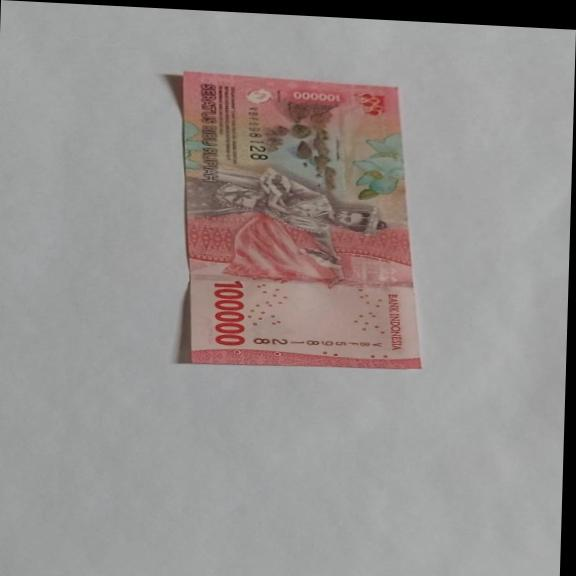Kertas: (171, 71, 431, 376), (210, 279, 249, 347)
